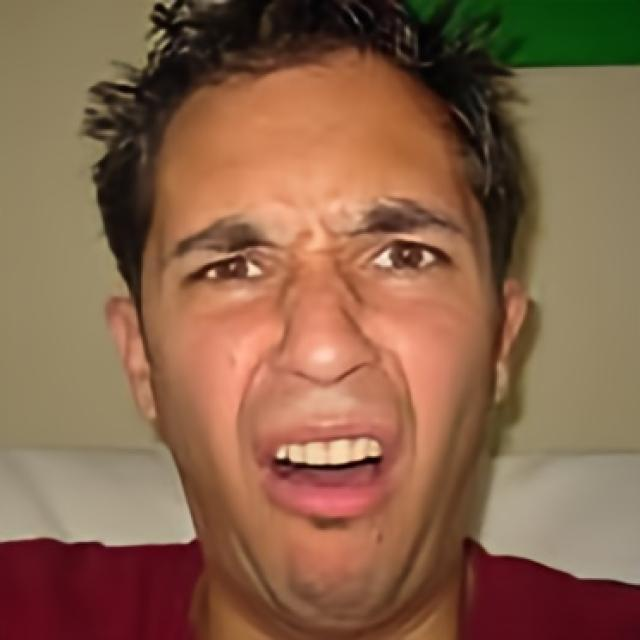disgust: (141, 47, 503, 632)
